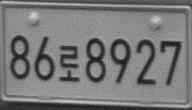2: (134, 38, 157, 85)
6: (33, 35, 55, 81)
7: (159, 39, 182, 86)
8: (9, 35, 30, 80), (85, 37, 106, 82)
9: (110, 38, 131, 85)
로: (58, 45, 80, 83)
